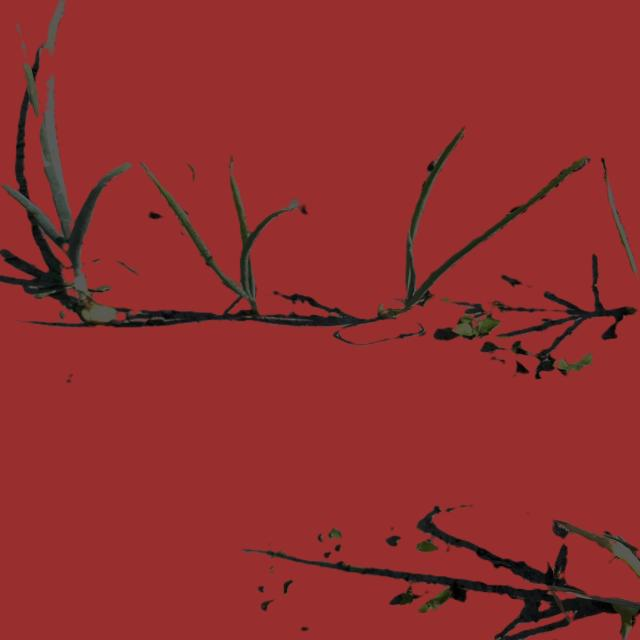Onion: (384, 137, 566, 326), (19, 76, 129, 324), (186, 162, 274, 328)
